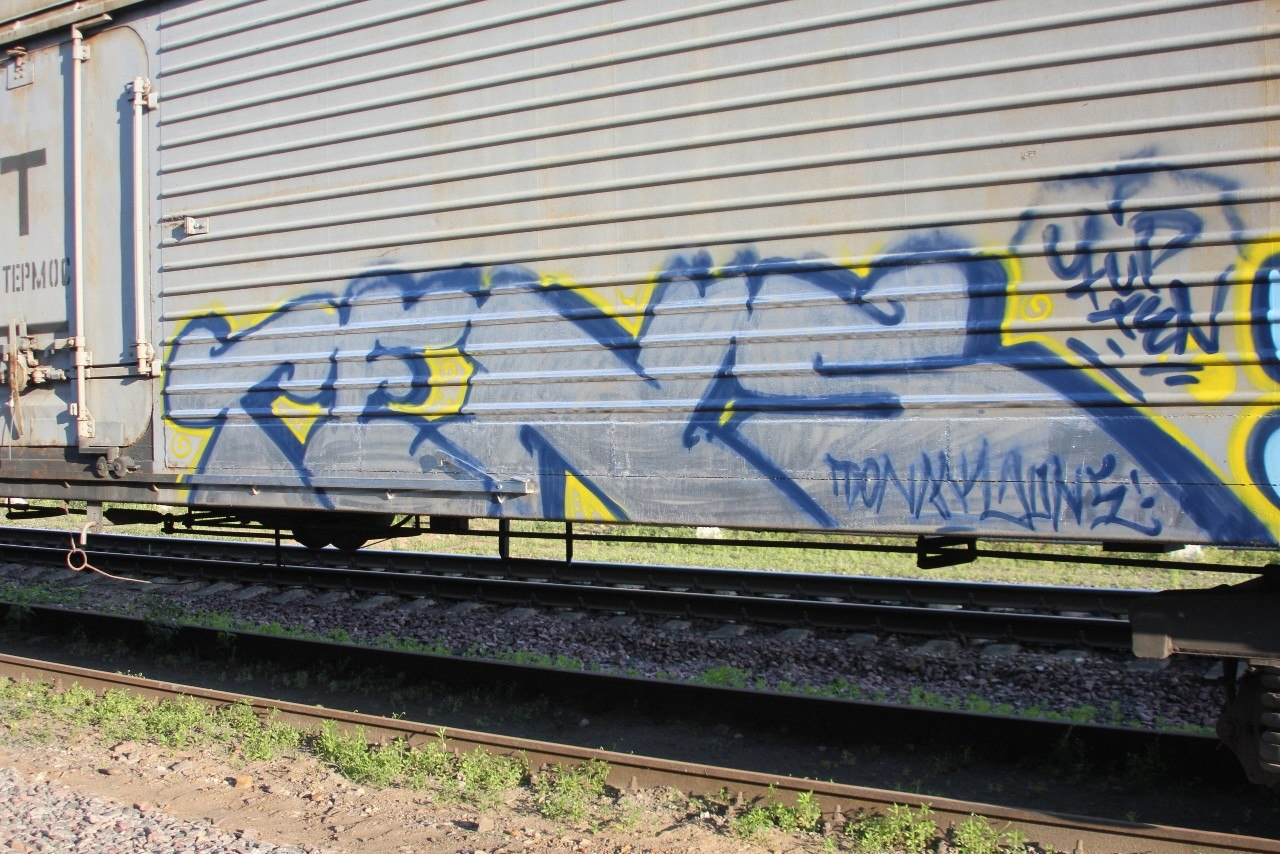graffity: (139, 147, 1278, 536)
